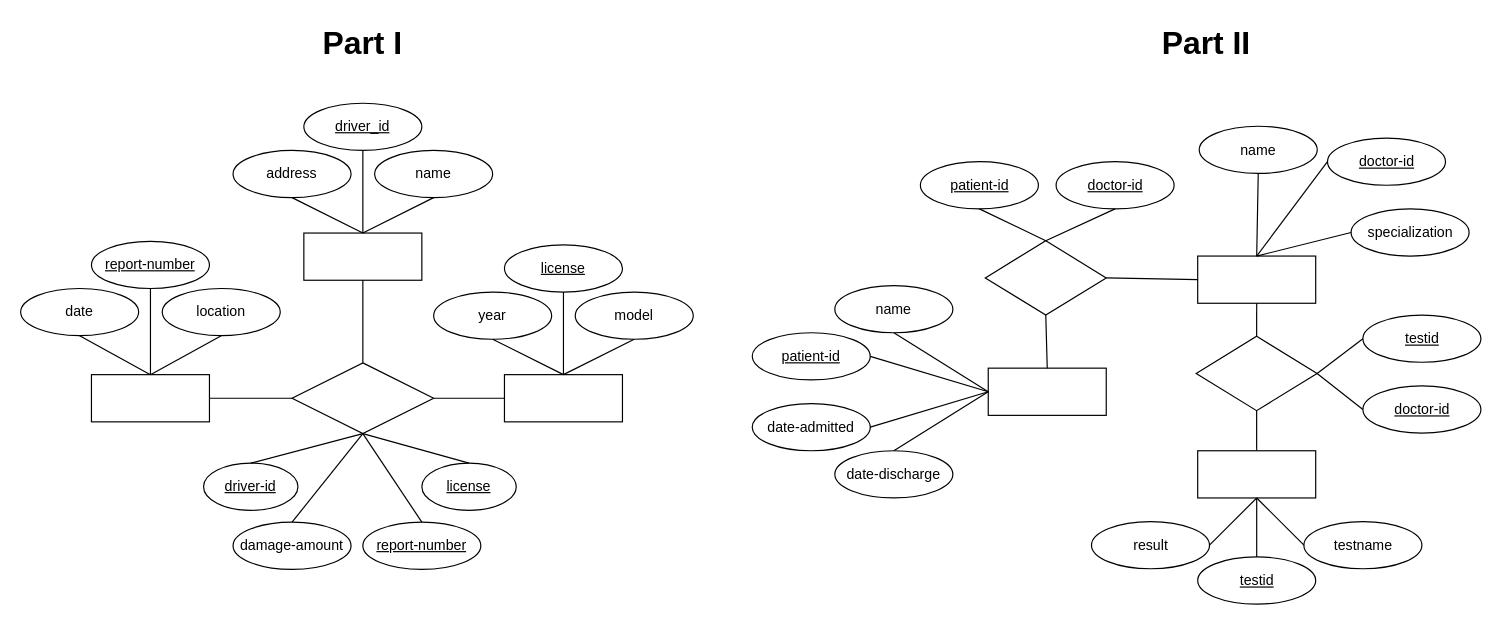
The diagram is 1502 pixels wide and 625 high, and some of its shapes have lost their labels. Here are the shapes that lost their labels. From the top down, the centre of each, then its label:
At pixel 362 256: "person".
At pixel 1045 277: "doctor-patient".
At pixel 1256 279: "doctors".
At pixel 1046 391: "patients".
At pixel 1256 373: "performed-by".
At pixel 149 397: "accident".
At pixel 362 398: "participated".
At pixel 562 397: "Car".
At pixel 1256 474: "test".
